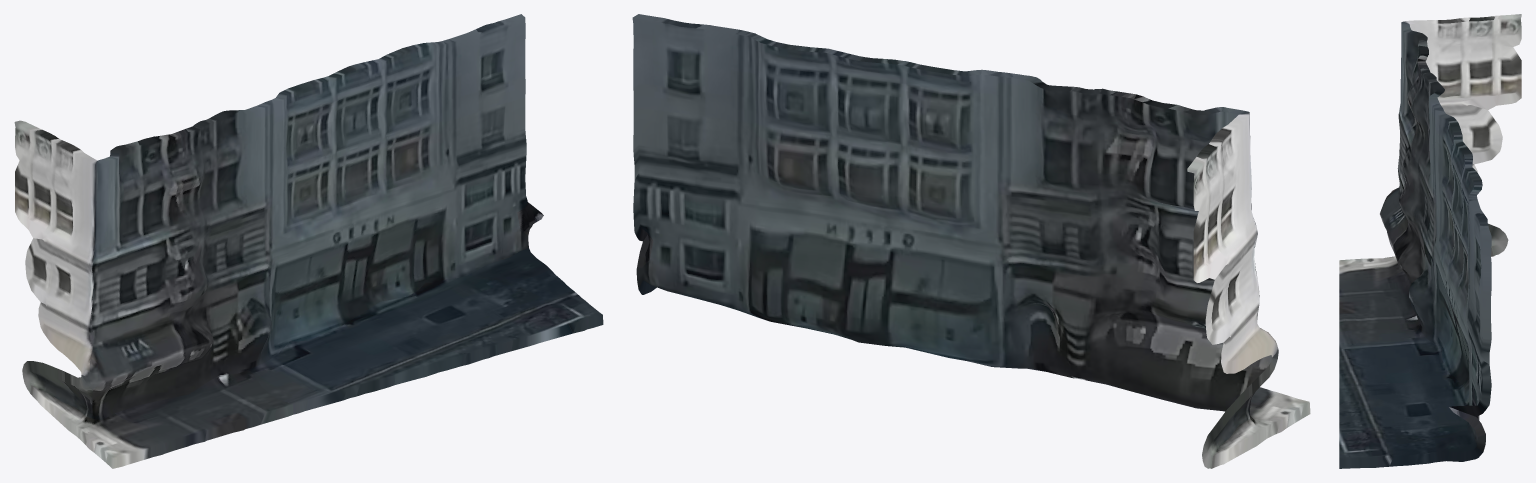
File: z20-167755-405241-h0-yup-uvflip-v3-world.glb
3 views of the same model, side by side, from view 1: azimuth 30°, elevation 25°; view 2: azimuth 150°, elevation 25°; view 3: azimuth 270°, elevation 25° (orthographic). The views are drawn at different scales.
Size of the model in its own units: 30.24 by 16.2 by 10.48.
1 material, 1 textured.
